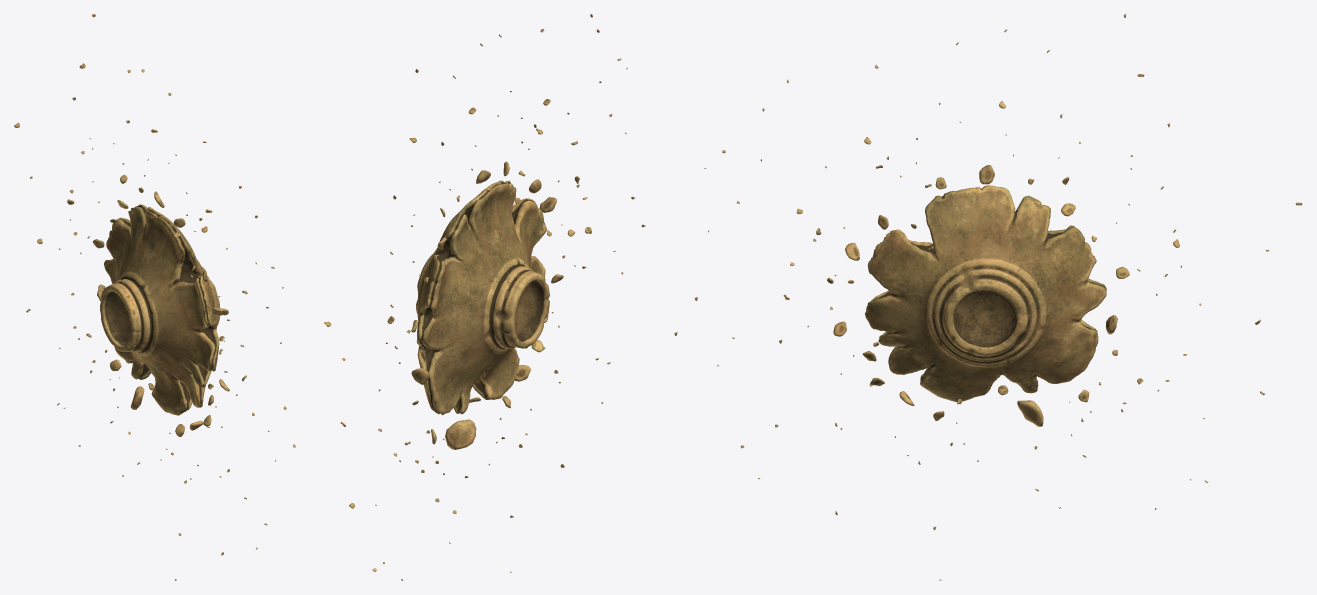
File: bullet_fragment.glb
3 views of the same model, side by side, from view 1: azimuth 30°, elevation 25°; view 2: azimuth 150°, elevation 25°; view 3: azimuth 270°, elevation 25° (orthographic). The views are drawn at different scales.
Parts seen in each view (by area): view 1: 2 bullet collide.002; view 2: 2 bullet collide.002; view 3: 2 bullet collide.002.
Boxes of the visible parts, x1,y1,x2,y2 form: 2 bullet collide.002: (14, 14, 295, 580); 2 bullet collide.002: (324, 14, 645, 580); 2 bullet collide.002: (674, 14, 1302, 580).
Size of the model in its own units: 164 by 912 by 916.
Materials: 1 (1 with a texture image).
